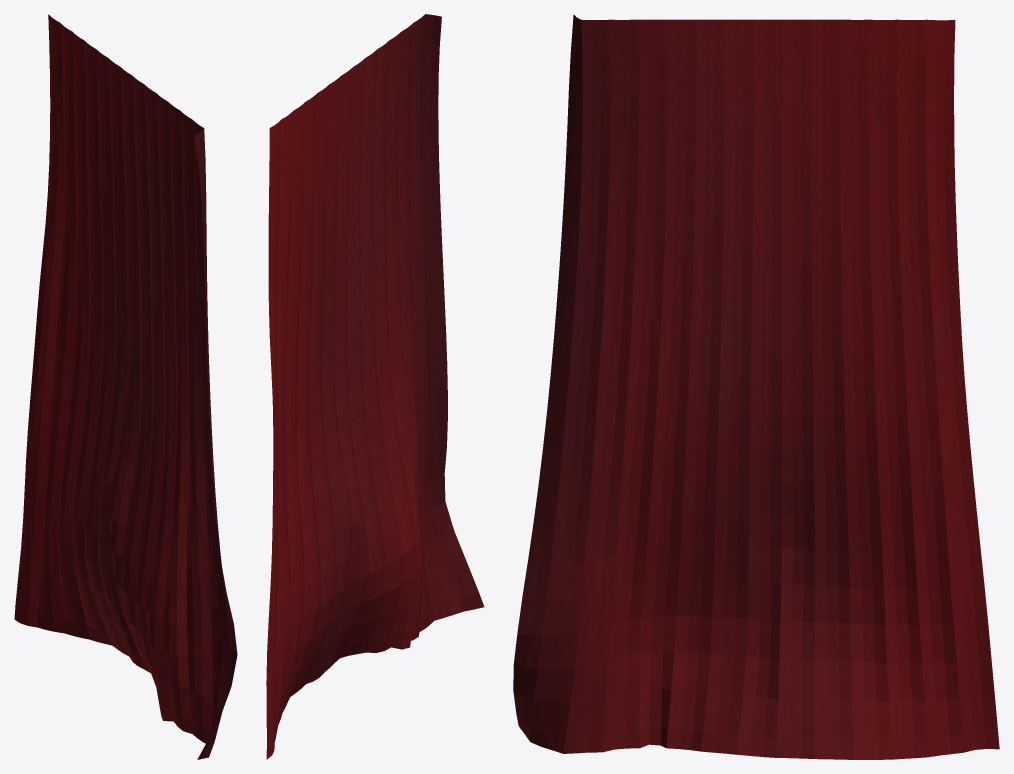
The model's file is F_Curtain_2.fbx.
The picture shows the model from 3 angles, left to right: view 1: azimuth 30°, elevation 25°; view 2: azimuth 150°, elevation 25°; view 3: azimuth 270°, elevation 25°; orthographic projection. The views are drawn at different scales.
Parts seen in each view (by area): view 1: F_Curtain_2; view 2: F_Curtain_2; view 3: F_Curtain_2.
Part boxes in pixels (bbox=[...]): F_Curtain_2: bbox=[14, 14, 237, 759]; F_Curtain_2: bbox=[266, 14, 484, 759]; F_Curtain_2: bbox=[513, 14, 999, 759].
Size of the model in its own units: 4.42 by 7.41 by 0.6981.
1 material, 1 textured.
